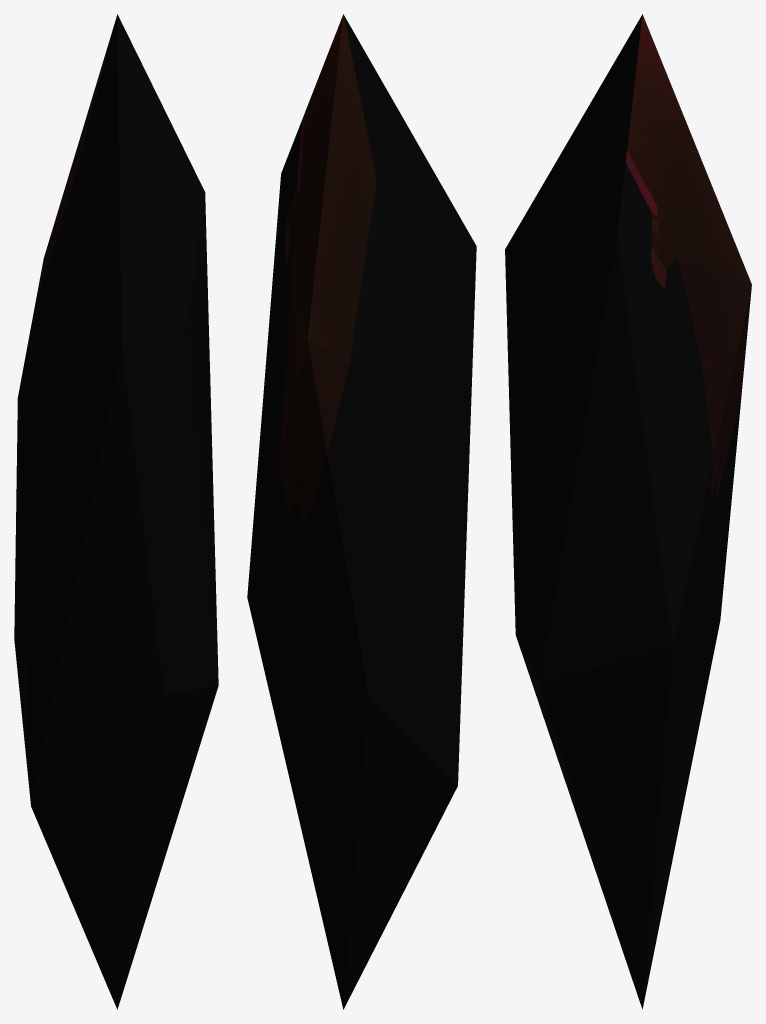
File: CRYSTAL1.fbx
3 views of the same model, side by side, from view 1: azimuth 30°, elevation 25°; view 2: azimuth 150°, elevation 25°; view 3: azimuth 270°, elevation 25° (orthographic).
Visible parts, largest first — view 1: Icosphere; view 2: Icosphere; view 3: Icosphere.
Part boxes in pixels (x1,y1,x2,y2): Icosphere: [14, 14, 218, 1009]; Icosphere: [247, 14, 476, 1009]; Icosphere: [505, 14, 751, 1009].
Bounding box in the file's own units: 18.04 × 94.59 × 21.26.
